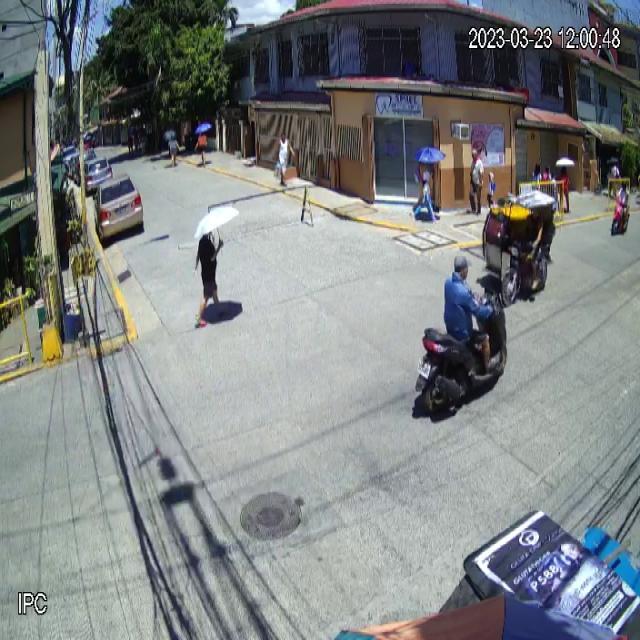Motorcycle: (411, 284, 505, 414)
Tricycle: (481, 191, 557, 303)
